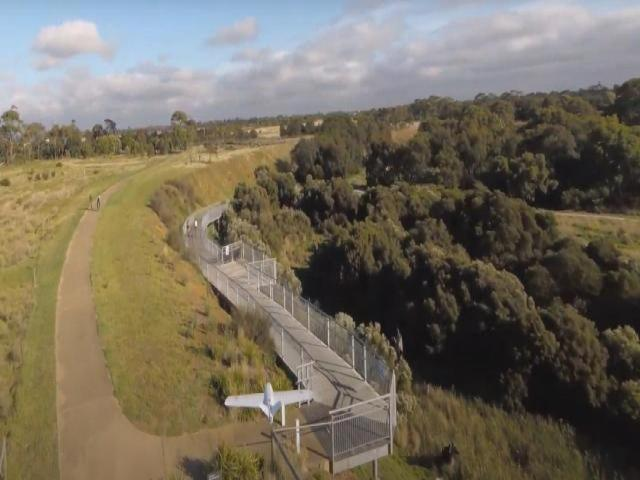iha: (222, 381, 317, 421)
